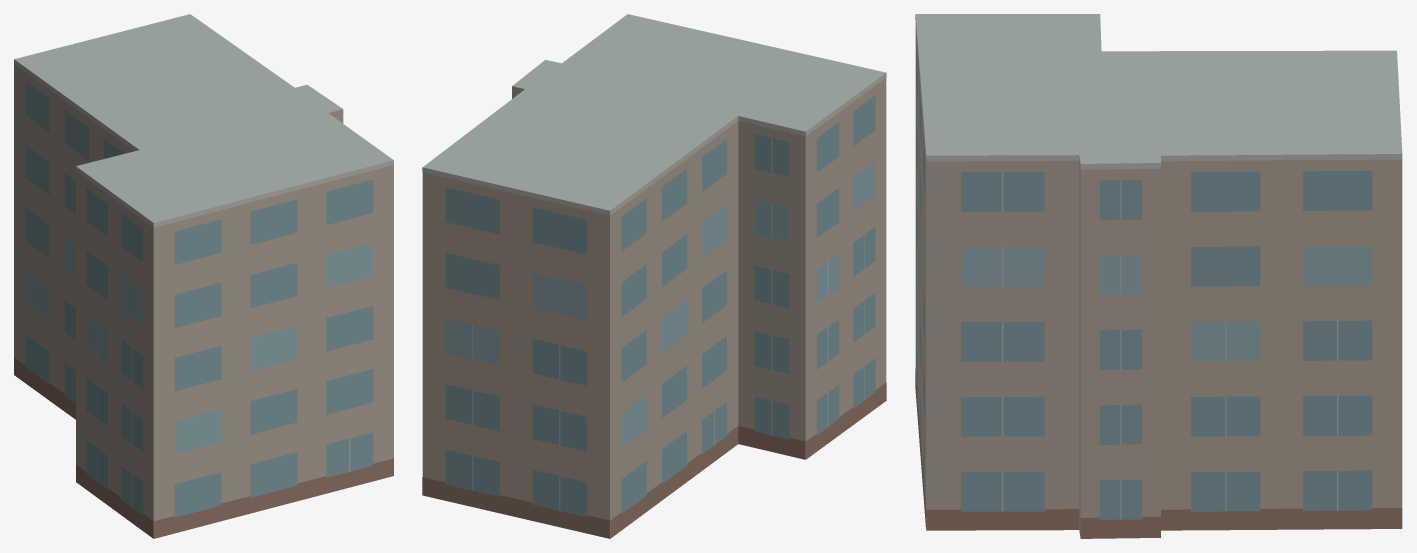
Rendered from survey-upis-32988341.glb.
3 renders of one model, left to right at view 1: azimuth 30°, elevation 25°; view 2: azimuth 150°, elevation 25°; view 3: azimuth 270°, elevation 25°, orthographic. The views are drawn at different scales.
Parts seen in each view (by area): view 1: survey-upis-32988341.tmp; view 2: survey-upis-32988341.tmp; view 3: survey-upis-32988341.tmp.
Boxes of the visible parts, x1,y1,x2,y2 form: survey-upis-32988341.tmp: (14,14,393,538); survey-upis-32988341.tmp: (422,14,886,538); survey-upis-32988341.tmp: (915,14,1402,538).
Bounding box in the file's own units: 14 × 16.3 × 19.19.
